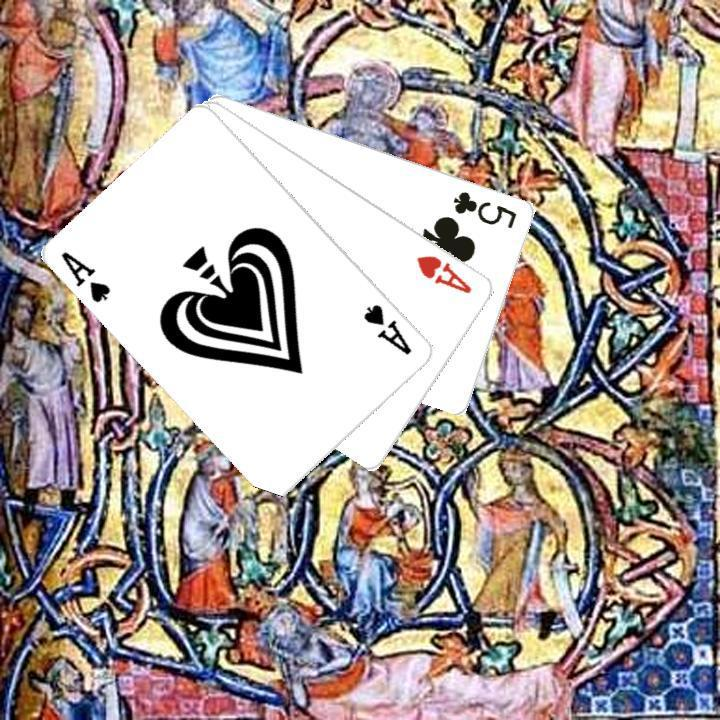5: (449, 186, 520, 230)
A: (57, 246, 114, 305), (360, 299, 415, 357), (412, 250, 475, 296)
